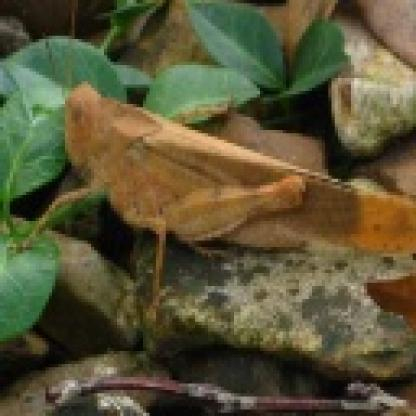grasshopper: (50, 79, 416, 315)
